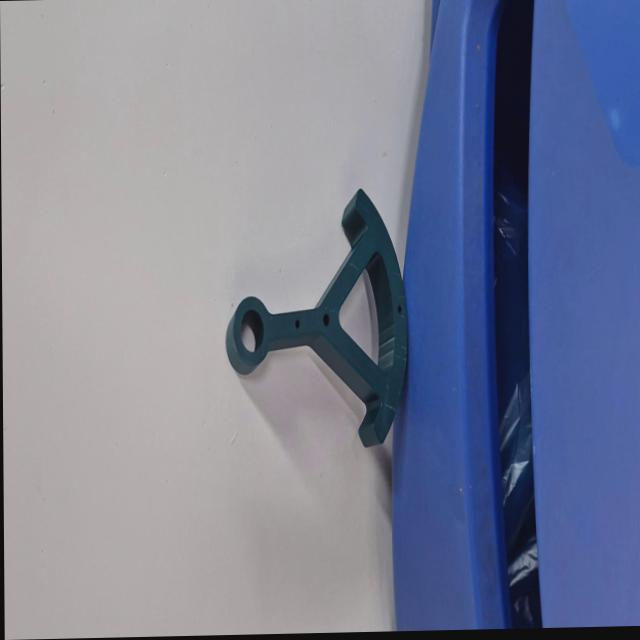haptic: (223, 185, 409, 452)
